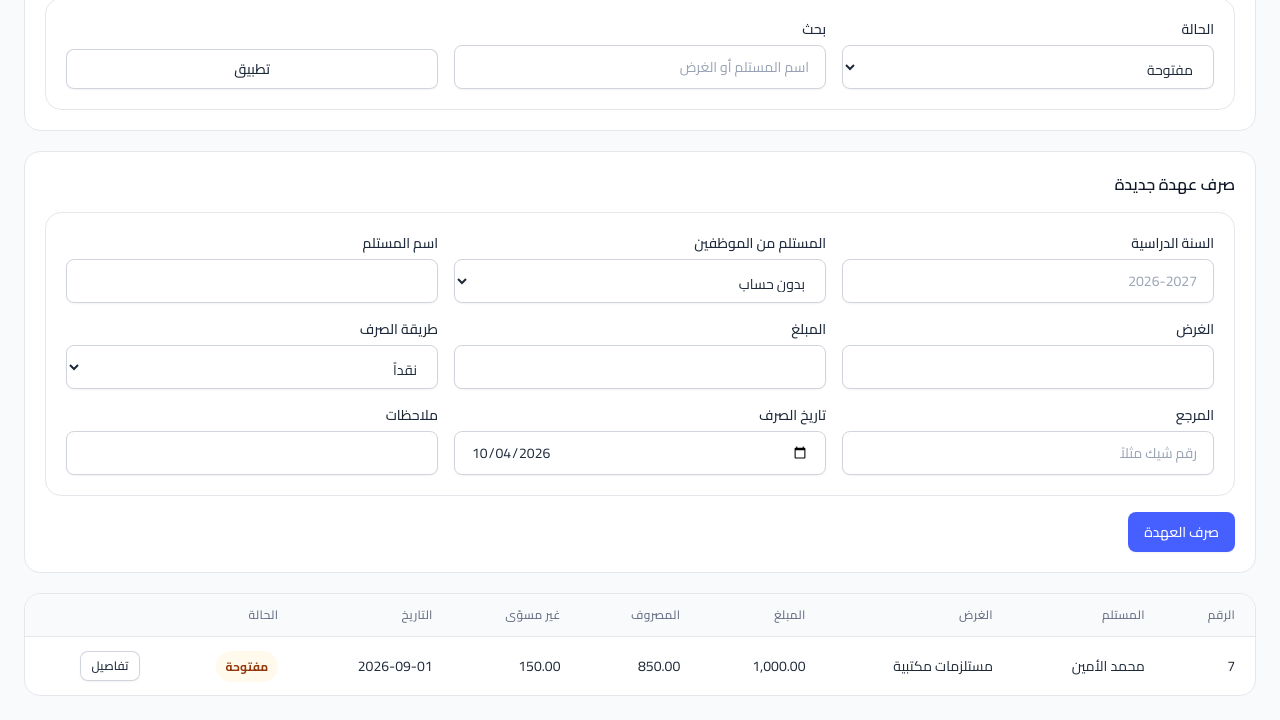
Test: CashAdvances › hides the closing button from someone who may only record spending
The image size is (1280, 720).
(page scrolled)
Click the button "تفاصيل" at coordinates (110, 666), box [80, 651, 140, 681]
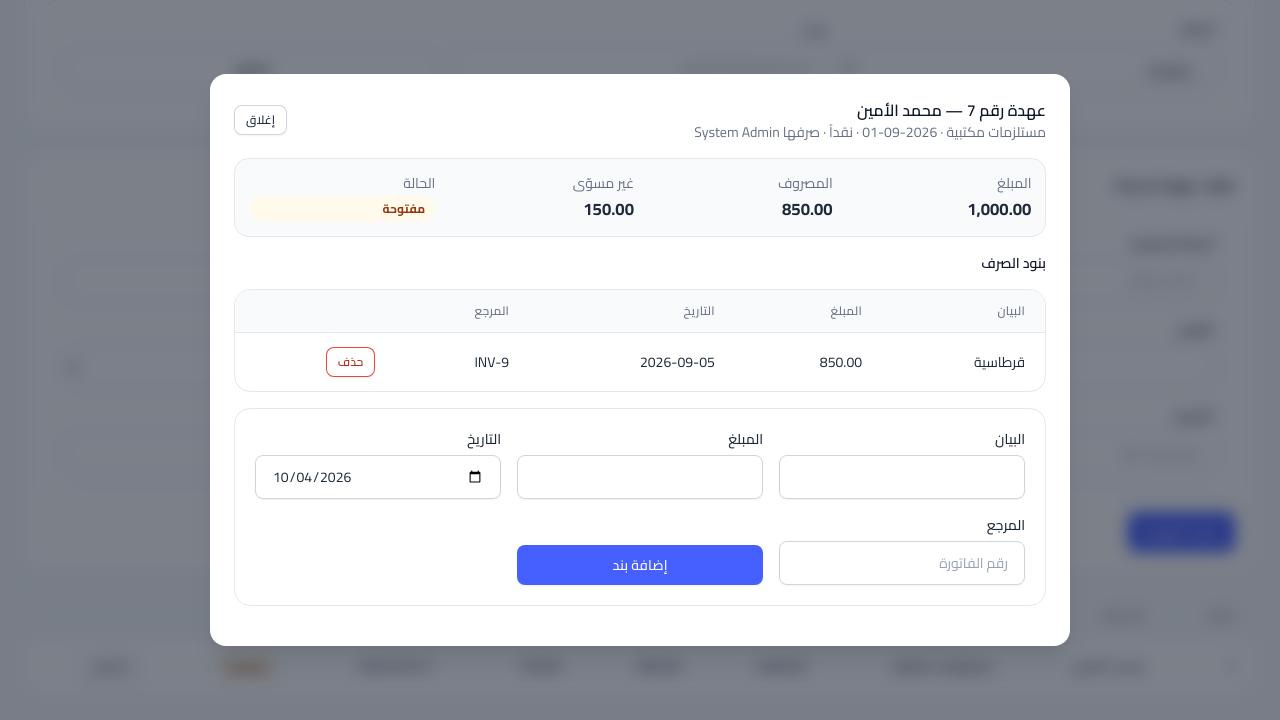
Expected: the button "إضافة بند" is shown, [517, 545, 763, 585]
